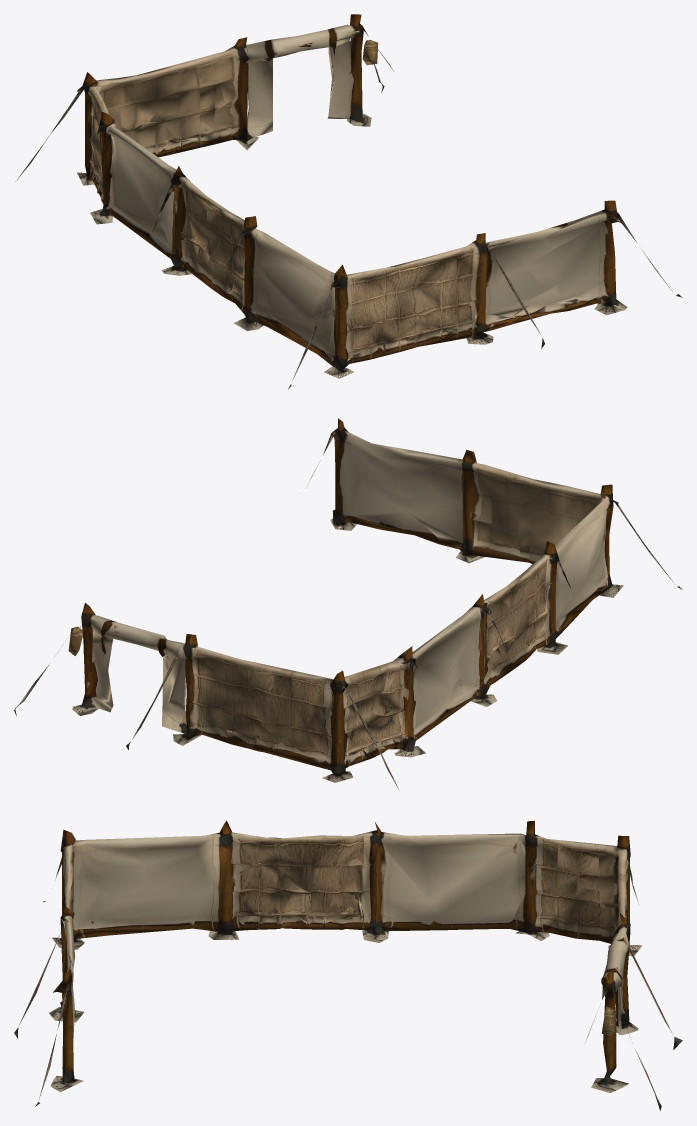
The model's file is camp-screen.glb.
3 views of the same model, one above another, from view 1: azimuth 30°, elevation 25°; view 2: azimuth 150°, elevation 25°; view 3: azimuth 270°, elevation 25° (orthographic). The views are drawn at different scales.
Parts seen in each view (by area): view 1: tripo_node_8017d86a-3d7c-4ded-9dc9-750831d2391e; view 2: tripo_node_8017d86a-3d7c-4ded-9dc9-750831d2391e; view 3: tripo_node_8017d86a-3d7c-4ded-9dc9-750831d2391e.
Part boxes in pixels (<box>): tripo_node_8017d86a-3d7c-4ded-9dc9-750831d2391e: <box>15,14,682,388</box>; tripo_node_8017d86a-3d7c-4ded-9dc9-750831d2391e: <box>14,418,682,790</box>; tripo_node_8017d86a-3d7c-4ded-9dc9-750831d2391e: <box>14,820,682,1110</box>.
Size of the model in its own units: 0.7174 by 0.1912 by 0.9962.
Materials: 1 (1 with a texture image).
